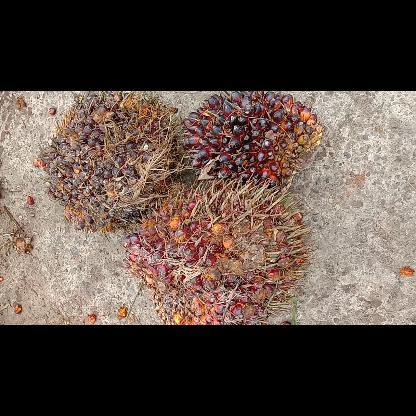Kurang masak: (36, 91, 178, 233), (176, 91, 326, 185)
TBS masak: (125, 181, 307, 324)
